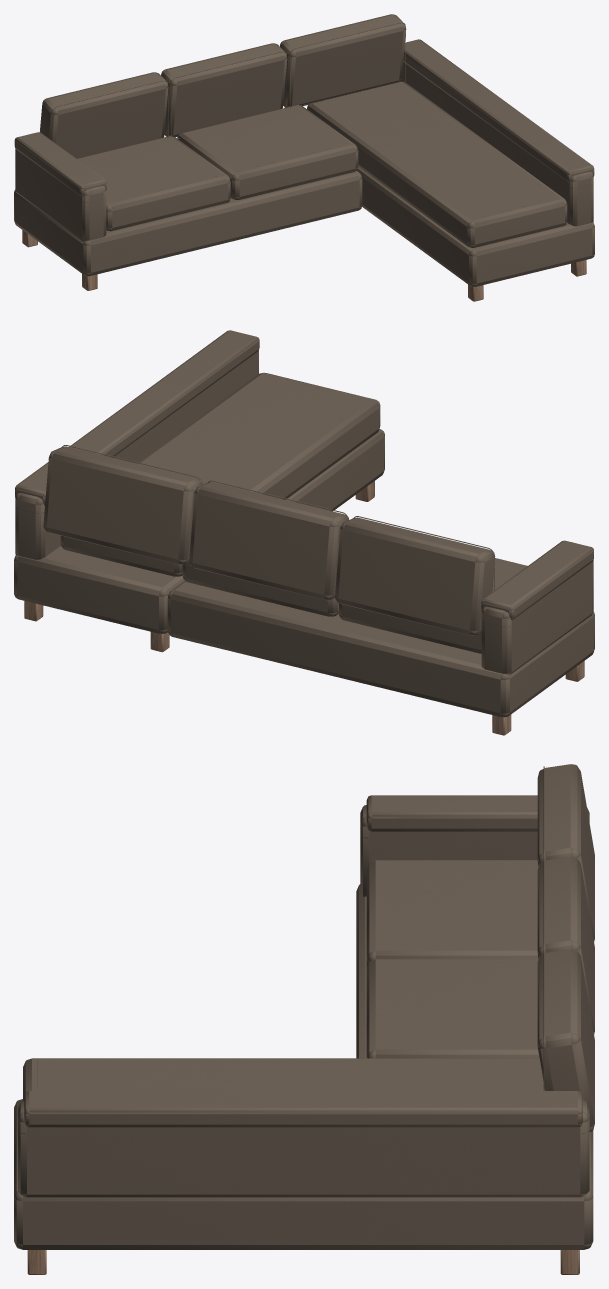
The model's file is everyday-sectional-soft-right.glb.
The picture shows the model from 3 angles, top to bottom: view 1: azimuth 30°, elevation 25°; view 2: azimuth 150°, elevation 25°; view 3: azimuth 270°, elevation 25°; orthographic projection. The views are drawn at different scales.
Visible parts, largest first — view 1: catalog_surface_UVMap, catalog_surface_RealismUV; view 2: catalog_surface_UVMap, catalog_surface_RealismUV; view 3: catalog_surface_UVMap, catalog_surface_RealismUV.
Part boxes in pixels (x1,y1,x2,y2): catalog_surface_UVMap: [14, 14, 594, 301]; catalog_surface_RealismUV: [15, 22, 592, 229]; catalog_surface_UVMap: [14, 330, 594, 735]; catalog_surface_RealismUV: [16, 339, 593, 627]; catalog_surface_UVMap: [14, 764, 594, 1274]; catalog_surface_RealismUV: [17, 766, 588, 1134].
Bounding box in the file's own units: 2.9 × 0.96 × 2.25.
3 materials, 2 textured.
